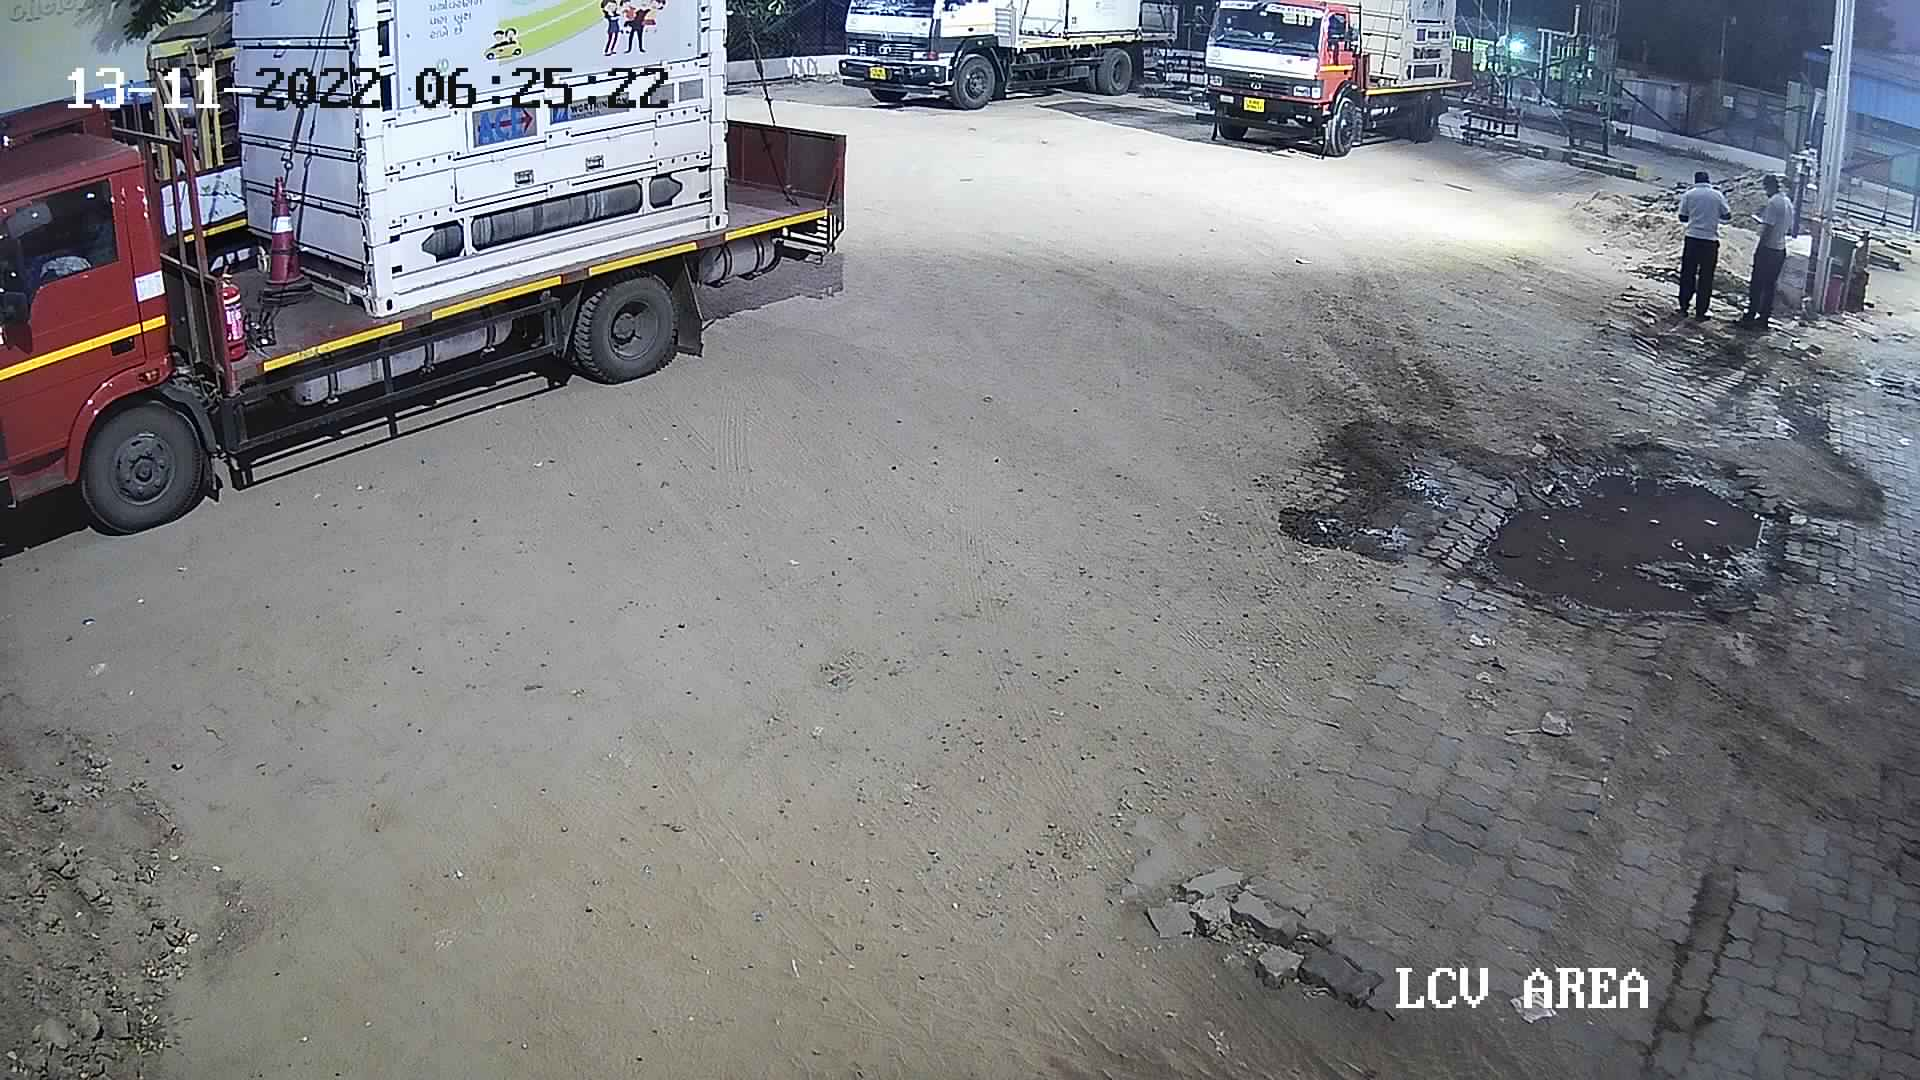HMV: (3, 0, 853, 539), (0, 0, 274, 280), (1178, 0, 1490, 160), (827, 1, 1188, 113)
